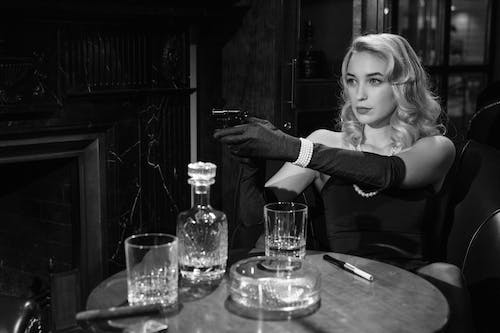alcohol: (175, 177, 229, 287), (123, 232, 180, 308), (262, 198, 308, 262)
cigarette: (74, 303, 163, 321), (352, 264, 376, 283)
gun: (207, 106, 251, 127)
